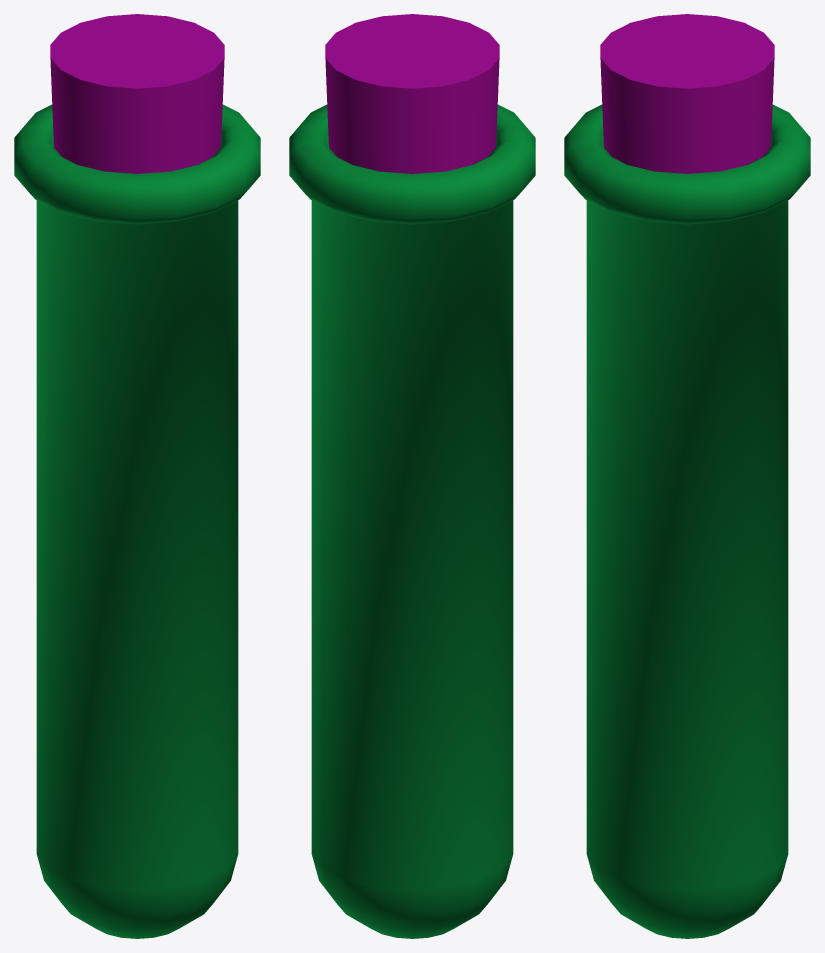
Rendered from liquidmedicine_fast_low_uv_id.FBX.
The picture shows the model from 3 angles, left to right: view 1: azimuth 30°, elevation 25°; view 2: azimuth 150°, elevation 25°; view 3: azimuth 270°, elevation 25°; orthographic projection.
Visible parts, largest first — view 1: Cylinder001; view 2: Cylinder001; view 3: Cylinder001.
Boxes of the visible parts, left/top/right/bottom form: Cylinder001: left=14, top=14, right=260, bottom=938; Cylinder001: left=289, top=14, right=535, bottom=938; Cylinder001: left=564, top=14, right=810, bottom=938.
Bounding box in the file's own units: 2.07 × 8 × 2.04.
